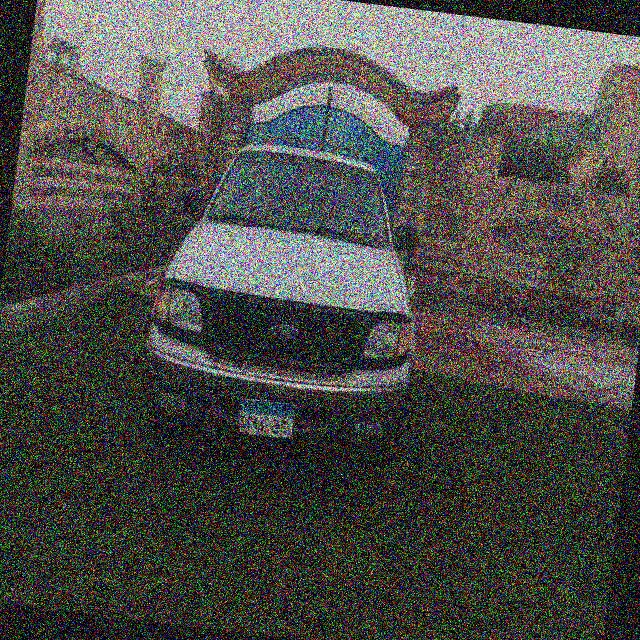License Plate: (237, 395, 298, 441)
